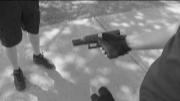gun: (72, 29, 121, 60)
